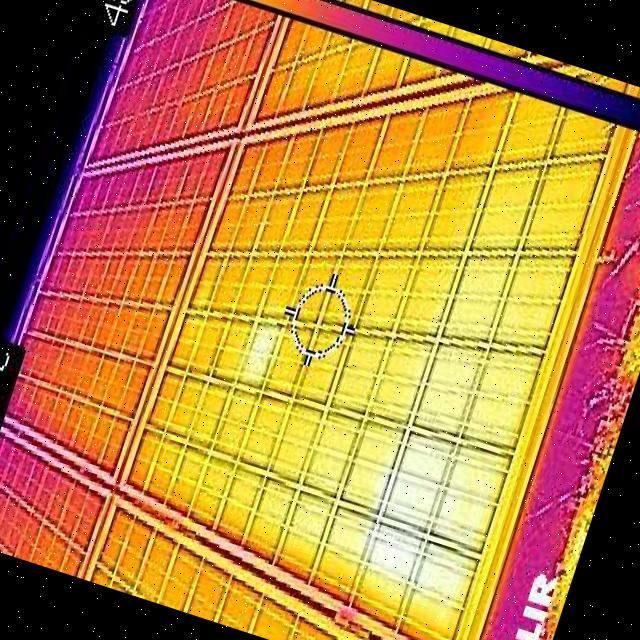Hotspot: (356, 344, 534, 630), (239, 321, 281, 390)
